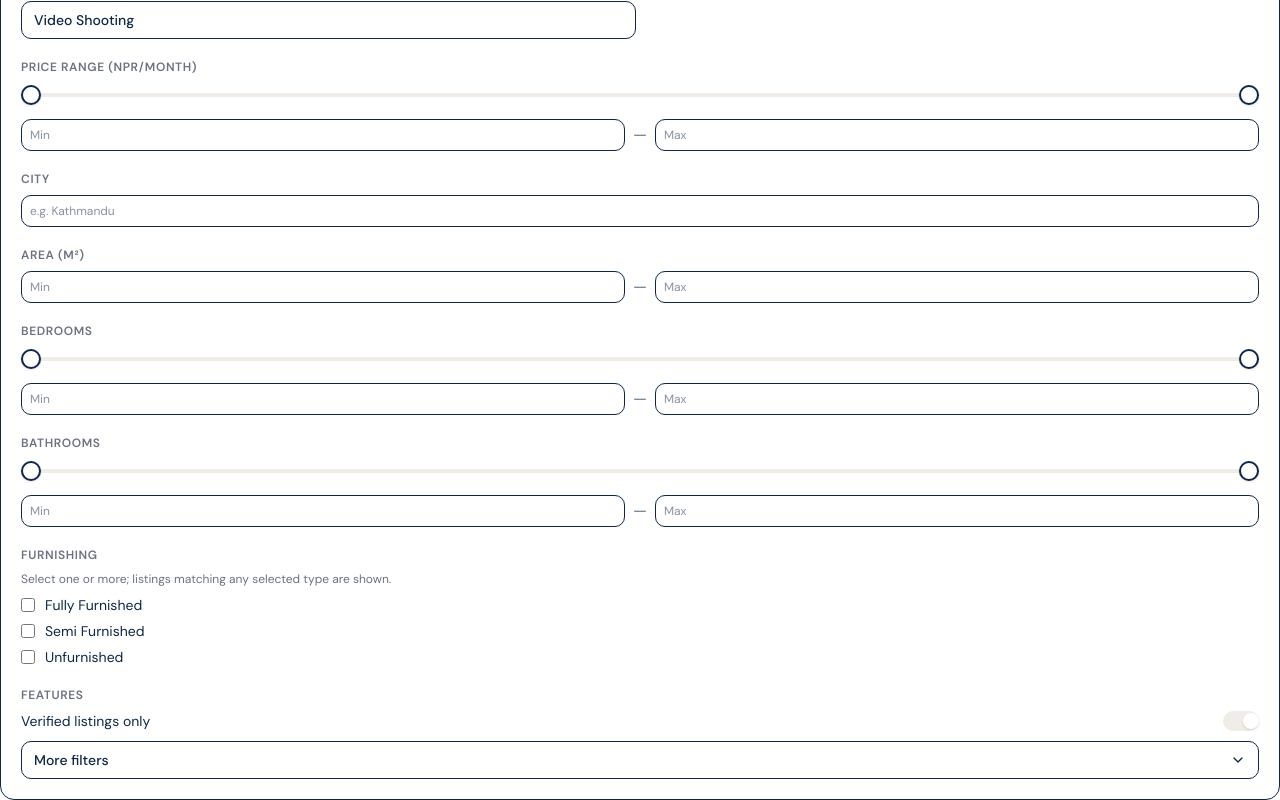
Scenario: FilterPanel › shows verified switch by default and hides parking/pets until More filters
(page scrolled)
Expected: the switch named "verified listings only" is shown, [1223,711,1259,731]
Expected: the switch labelled "parking available" is not shown
Click the button "More filters". click: (71,760)
box: [21,741,1259,779]
(page scrolled)
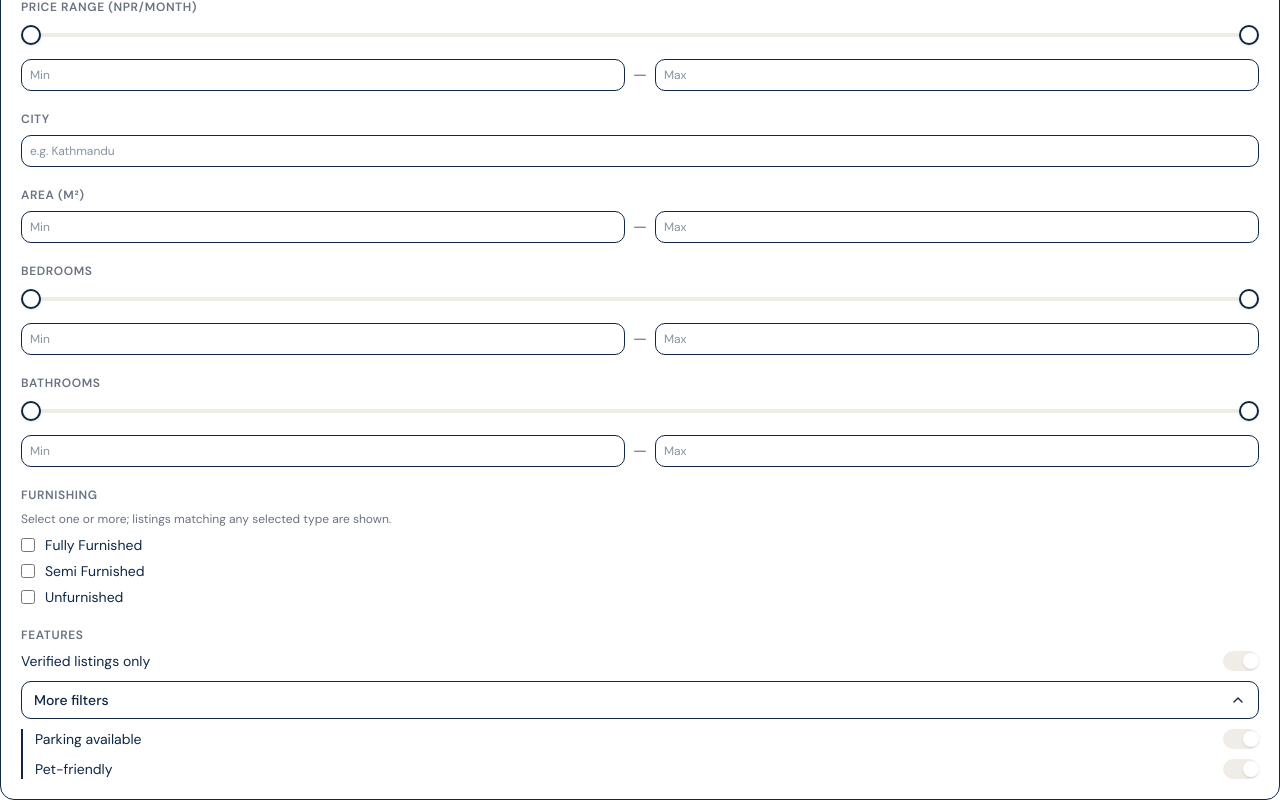
Expected: the switch named "parking available" is shown, [1223,729,1259,749]
Expected: the switch named "pet-friendly" is shown, [1223,759,1259,779]
